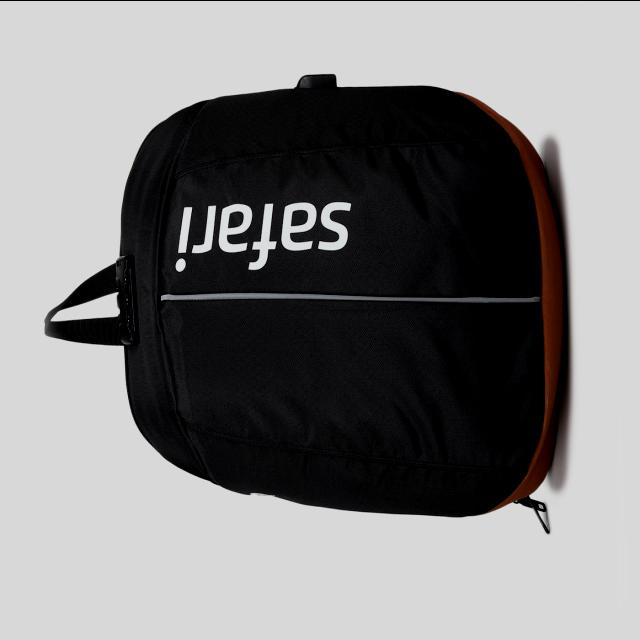backpack: (44, 74, 566, 534)
